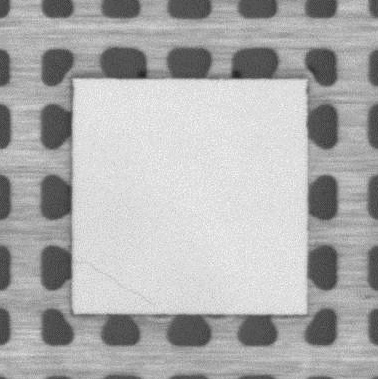DIE_CRACK: (73, 260, 157, 307)
